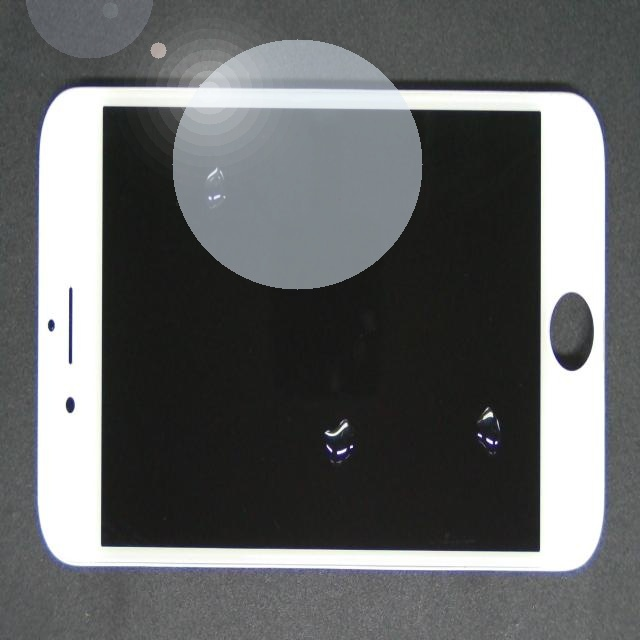oil: (253, 186, 640, 608), (181, 199, 497, 623), (108, 60, 307, 256)
